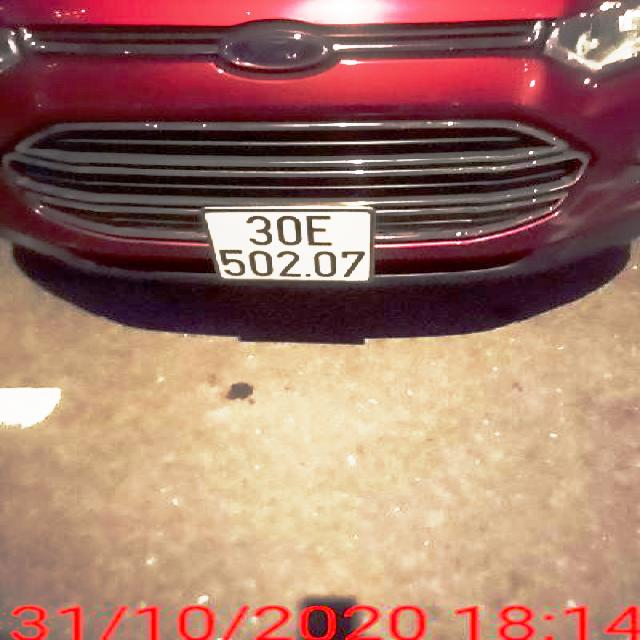license_plate: (209, 204, 372, 284)
